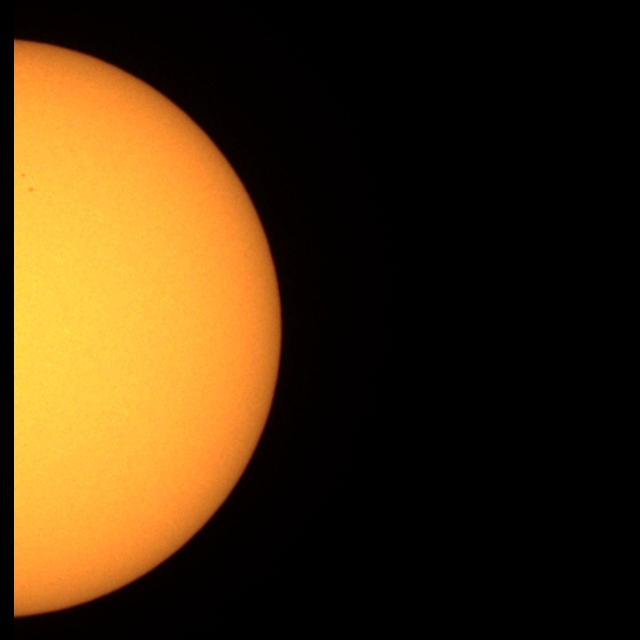sunspot: (26, 184, 36, 194), (20, 172, 27, 179)
